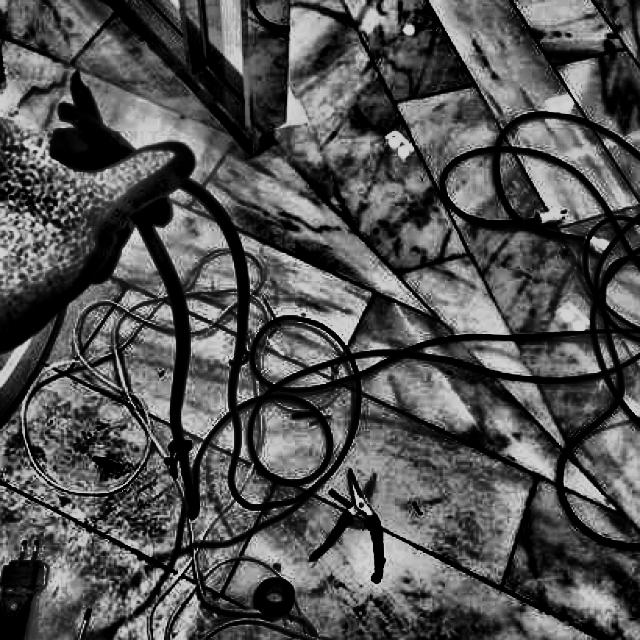Cable: (152, 110, 640, 552), (22, 254, 318, 640)
